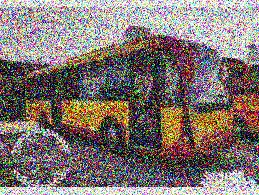bus: (20, 36, 241, 163)
